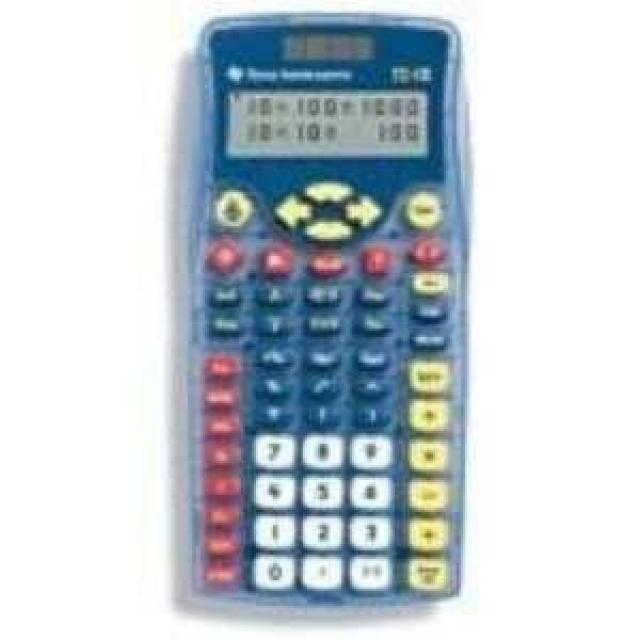Calculator: (171, 0, 469, 612)
